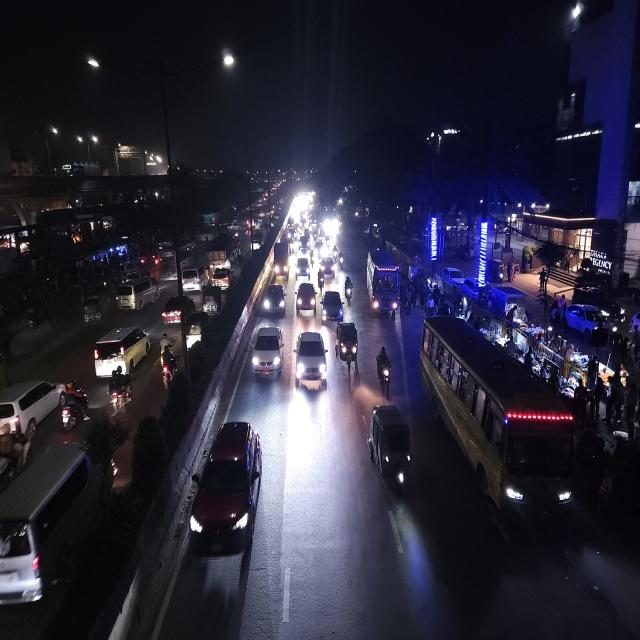bus: (422, 318, 584, 526), (364, 247, 402, 320), (160, 240, 196, 278)
car: (0, 442, 99, 617), (190, 417, 264, 560), (0, 373, 63, 440), (91, 323, 153, 378), (296, 326, 328, 396), (252, 320, 284, 386), (115, 273, 161, 312), (161, 292, 193, 326), (184, 310, 208, 354), (260, 279, 287, 318), (320, 285, 344, 323), (295, 279, 317, 319), (180, 262, 207, 293), (211, 265, 234, 290), (442, 265, 464, 288), (294, 256, 312, 281), (320, 256, 336, 279), (250, 228, 264, 252)
cng: (368, 400, 412, 500), (335, 320, 360, 372), (81, 292, 105, 328), (202, 284, 222, 318)
motorcycle: (57, 380, 91, 432), (106, 368, 136, 416), (375, 343, 393, 395), (159, 343, 179, 388), (344, 274, 354, 305), (338, 248, 346, 271)
truck: (208, 236, 235, 273), (272, 240, 290, 279)
